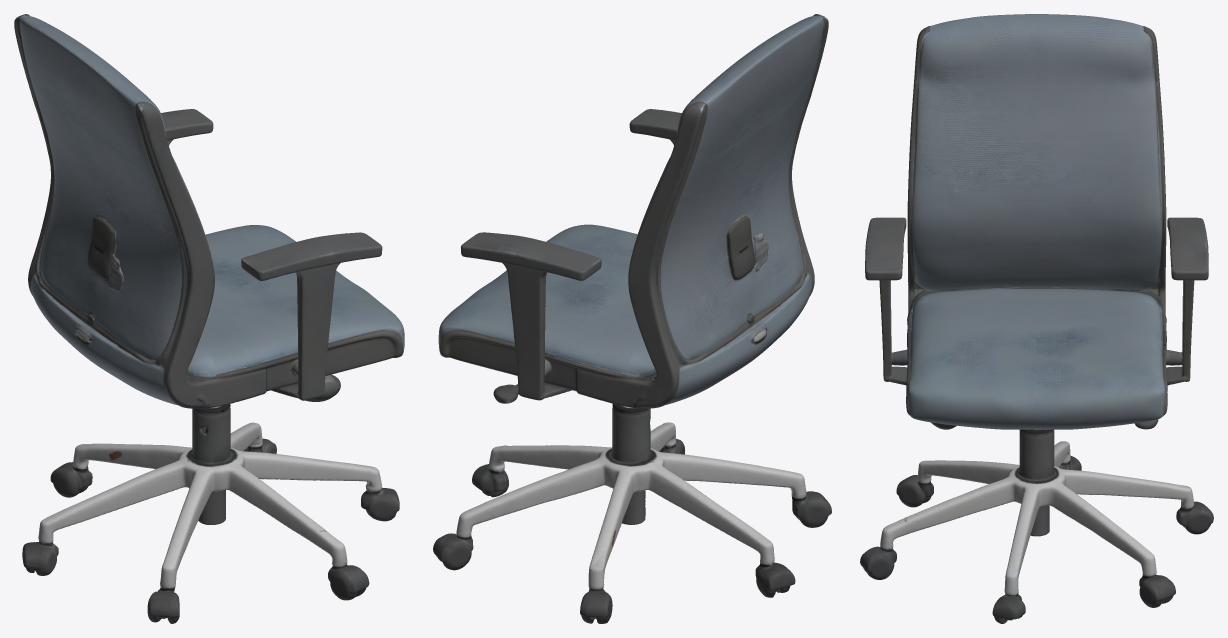
File: modern_office_chair_padded_18.glb
3 views of the same model, side by side, from view 1: azimuth 30°, elevation 25°; view 2: azimuth 150°, elevation 25°; view 3: azimuth 270°, elevation 25° (orthographic). The views are drawn at different scales.
Parts seen in each view (by area): view 1: tripo_node_01ed0eed-da32-4c01-885d-cc190f33157b; view 2: tripo_node_01ed0eed-da32-4c01-885d-cc190f33157b; view 3: tripo_node_01ed0eed-da32-4c01-885d-cc190f33157b.
Boxes of the visible parts, bbox=[...] form: tripo_node_01ed0eed-da32-4c01-885d-cc190f33157b: bbox=[14, 14, 404, 623]; tripo_node_01ed0eed-da32-4c01-885d-cc190f33157b: bbox=[433, 14, 831, 623]; tripo_node_01ed0eed-da32-4c01-885d-cc190f33157b: bbox=[860, 14, 1213, 623].
Size of the model in its own units: 0.6872 by 1 by 0.6686.
1 material, 1 textured.
